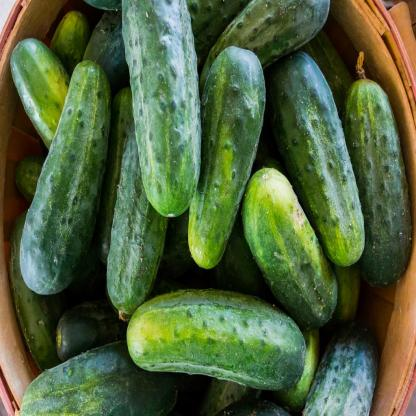--: (20, 51, 112, 312), (266, 50, 367, 261), (118, 0, 201, 234), (121, 292, 309, 392), (189, 45, 268, 270)
